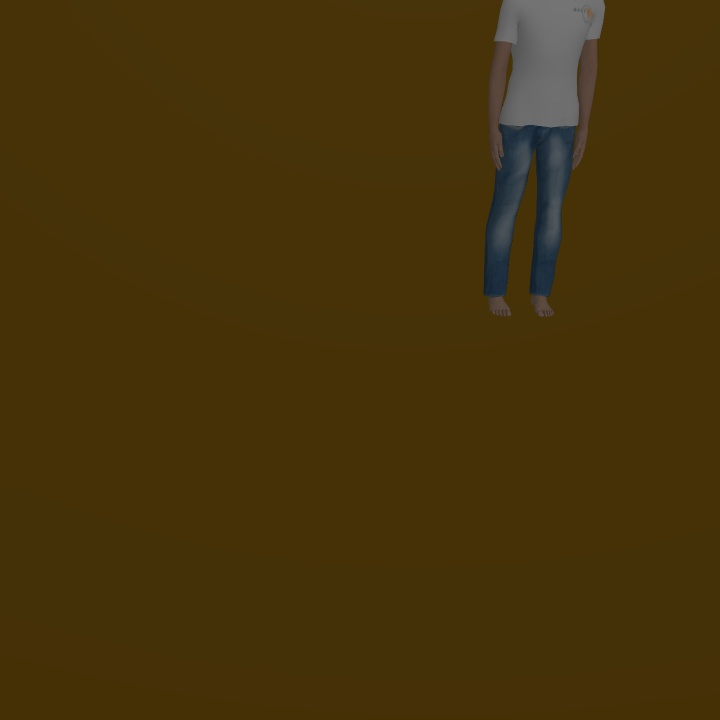victim: (487, 1, 606, 318)
